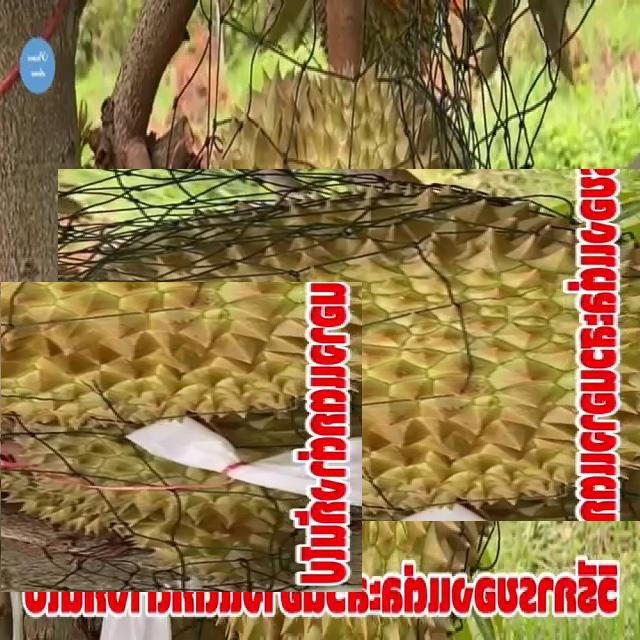durian: (116, 111, 584, 580), (0, 264, 345, 610)
